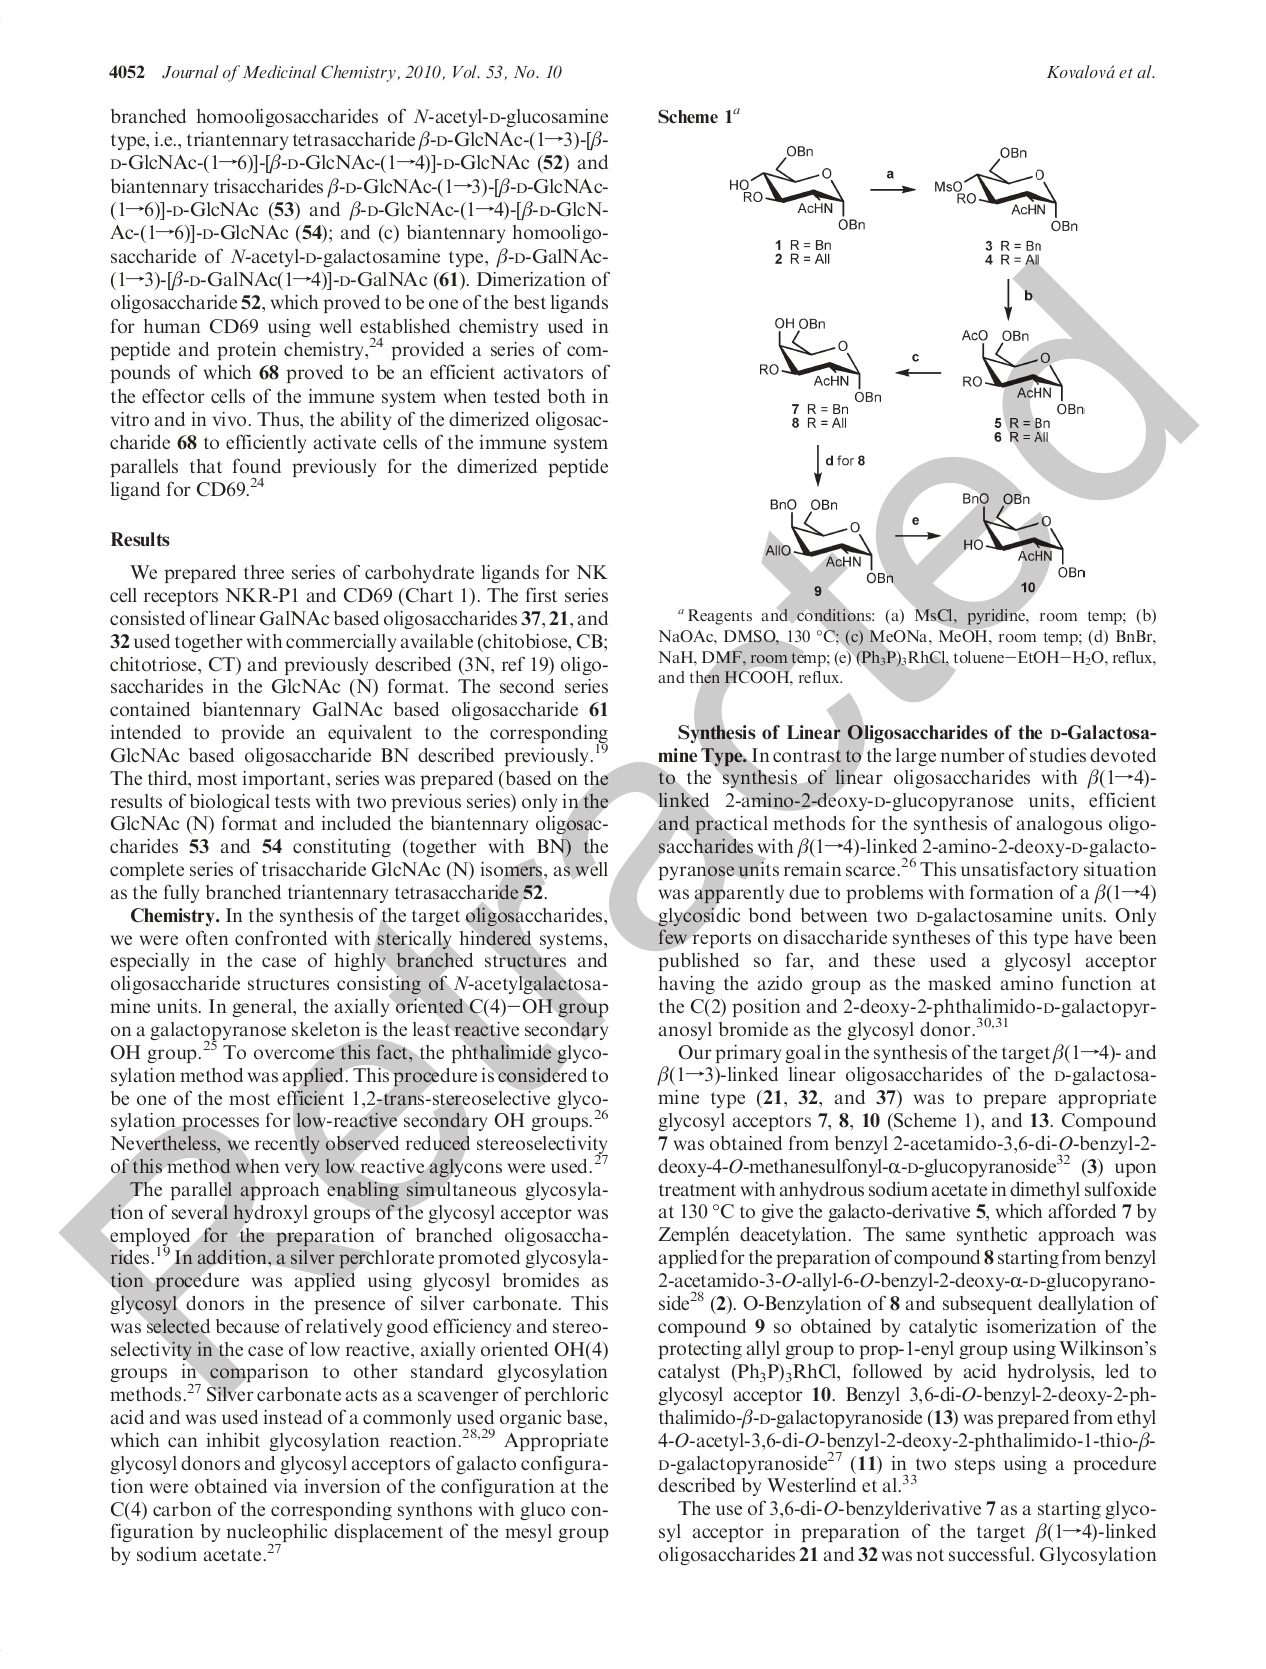exist_molecular: (927, 133, 1093, 233), (953, 475, 1093, 588), (762, 481, 899, 589), (753, 305, 890, 400), (718, 142, 864, 231), (957, 321, 1088, 418)
